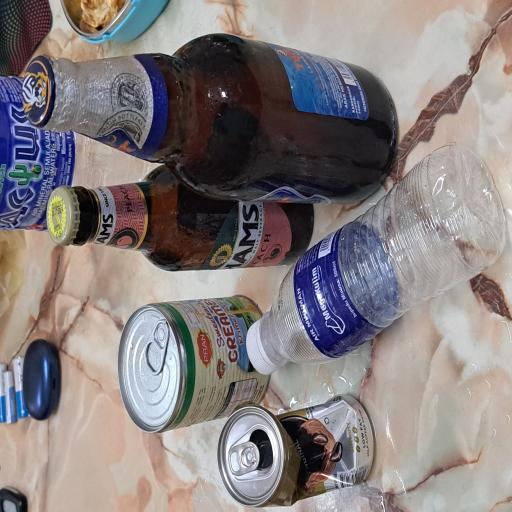can: (59, 155, 163, 362), (6, 287, 89, 500)
glass bottle: (231, 25, 360, 512), (181, 62, 258, 418)
plastic bottle: (114, 350, 279, 512), (211, 0, 329, 210)
plastic bottle cap: (102, 328, 145, 375)
pop tab: (102, 192, 145, 226), (27, 305, 53, 348)
